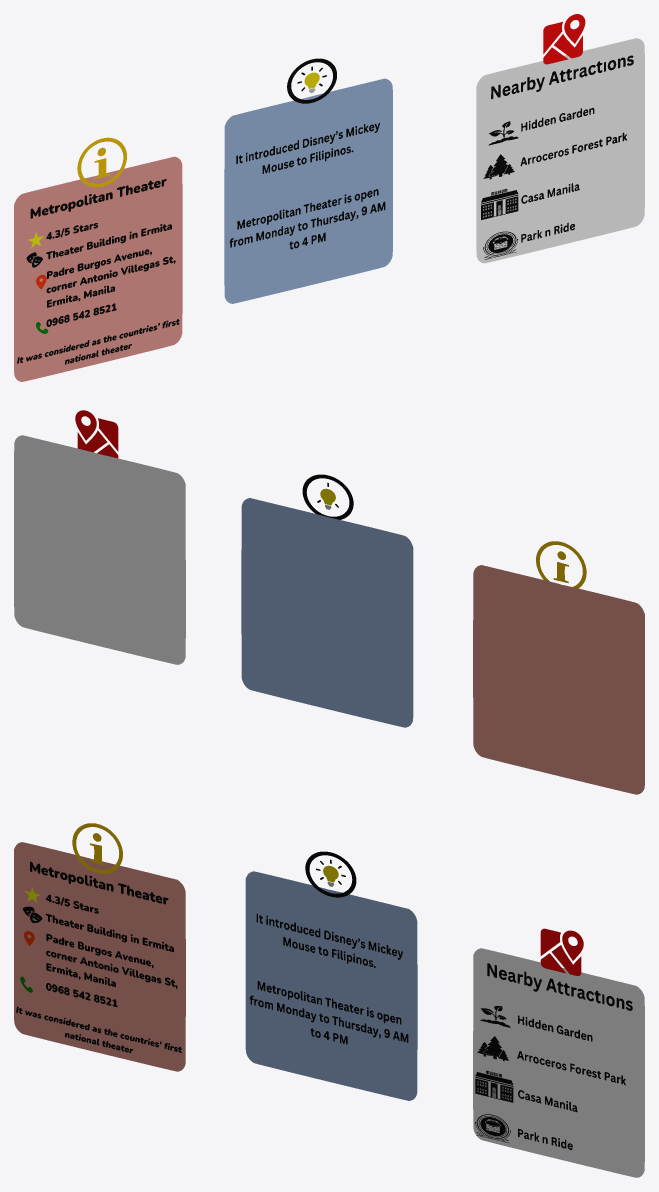
The model's file is 2-METROPOLITAN-THEATER.fbx.
3 renders of one model, top to bottom at view 1: azimuth 30°, elevation 25°; view 2: azimuth 150°, elevation 25°; view 3: azimuth 330°, elevation 25°, orthographic.
Parts seen in each view (by area): view 1: Curve.001; view 2: Curve.001; view 3: Curve.001.
Part boxes in pixels (left/top/right/bottom): Curve.001: left=14, top=14, right=644, bottom=381; Curve.001: left=14, top=410, right=644, bottom=794; Curve.001: left=14, top=823, right=644, bottom=1177.
Size of the model in its own units: 36.03 by 13.55 by 1.7.
